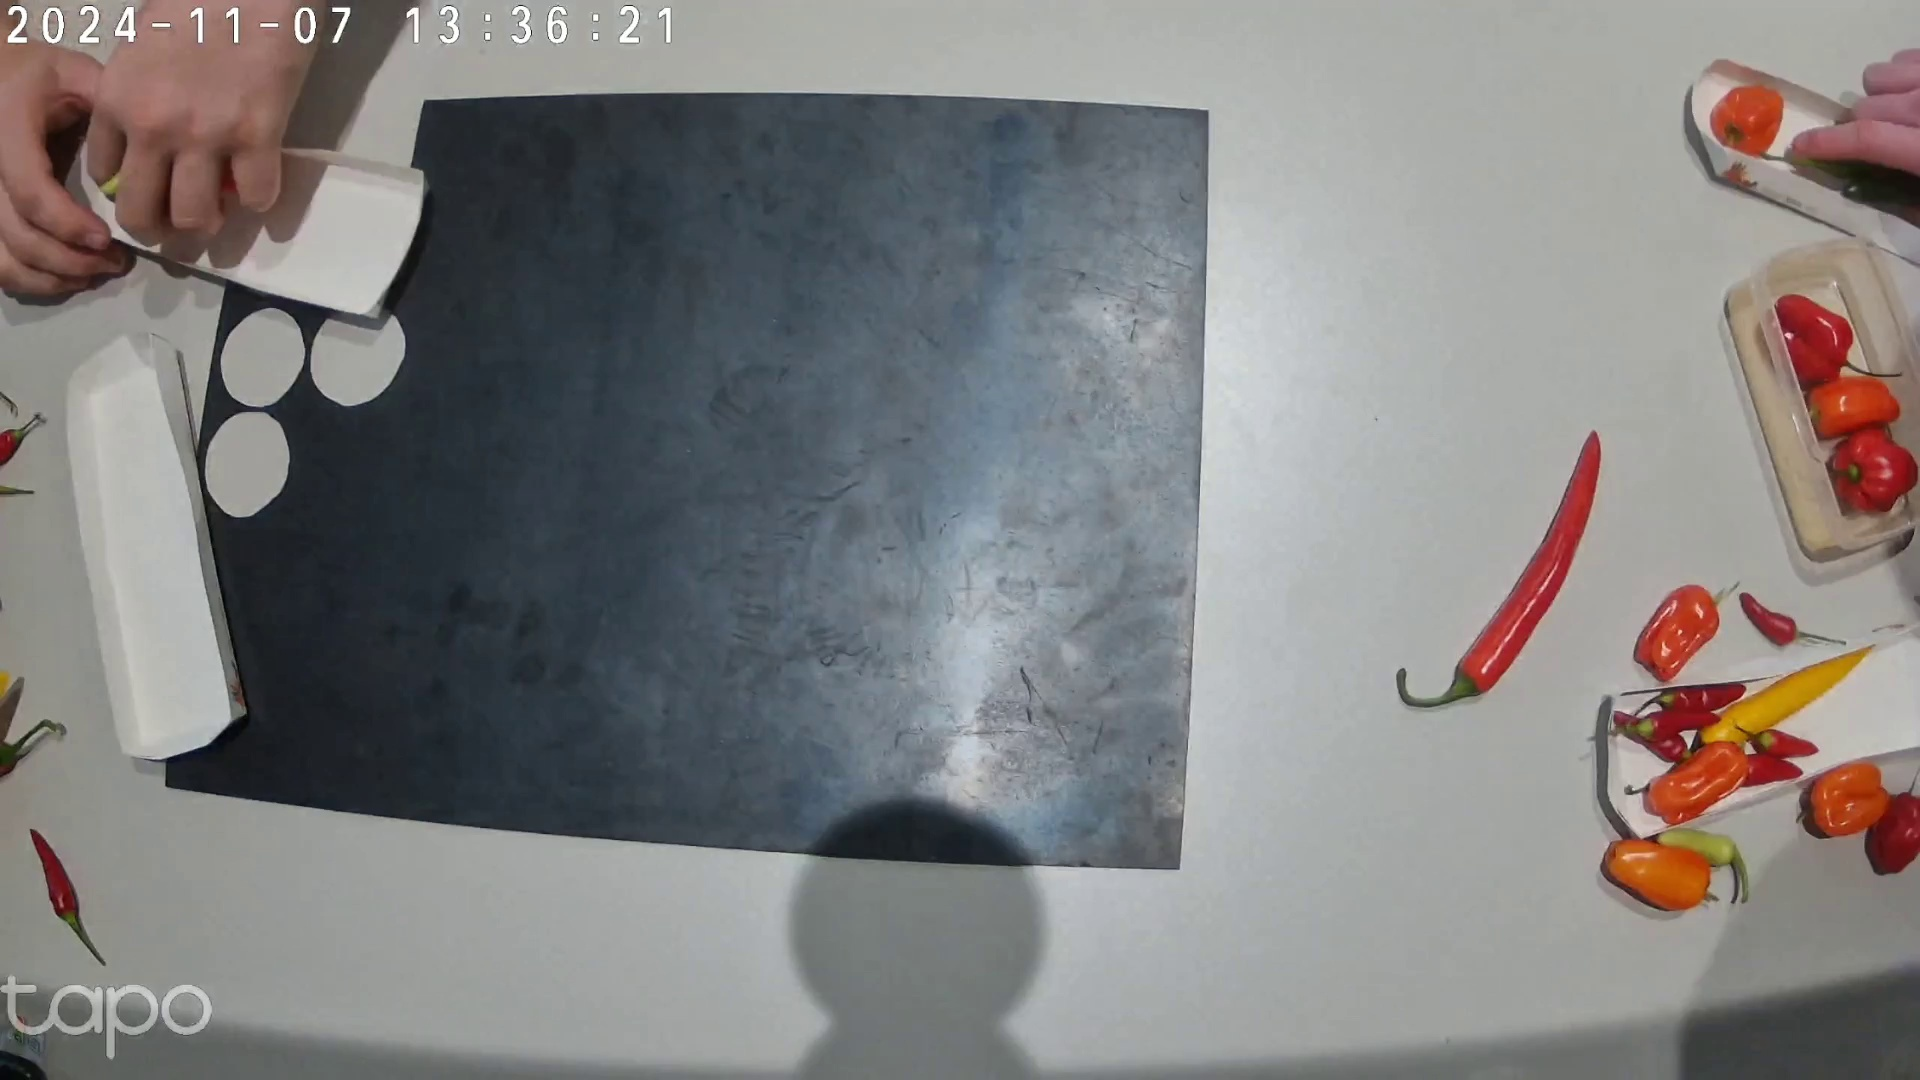Habanero_Pepper_Red: (1775, 294, 1903, 377), (1827, 428, 1918, 512), (1866, 771, 1920, 875)
Leon_Orange: (1635, 580, 1740, 681), (1648, 742, 1749, 824), (1604, 840, 1720, 910), (1796, 763, 1889, 837), (1807, 377, 1900, 437), (1711, 85, 1784, 157)
Rawit_Green: (1657, 829, 1749, 904)
Rawit_Red: (1626, 683, 1746, 726), (1613, 711, 1692, 761), (1625, 710, 1722, 741), (1735, 725, 1819, 757), (1744, 752, 1802, 787)
Spanish_Pepper_Red: (1396, 430, 1602, 708)
Spanish_Pepper_Yellow: (1689, 644, 1875, 753)
